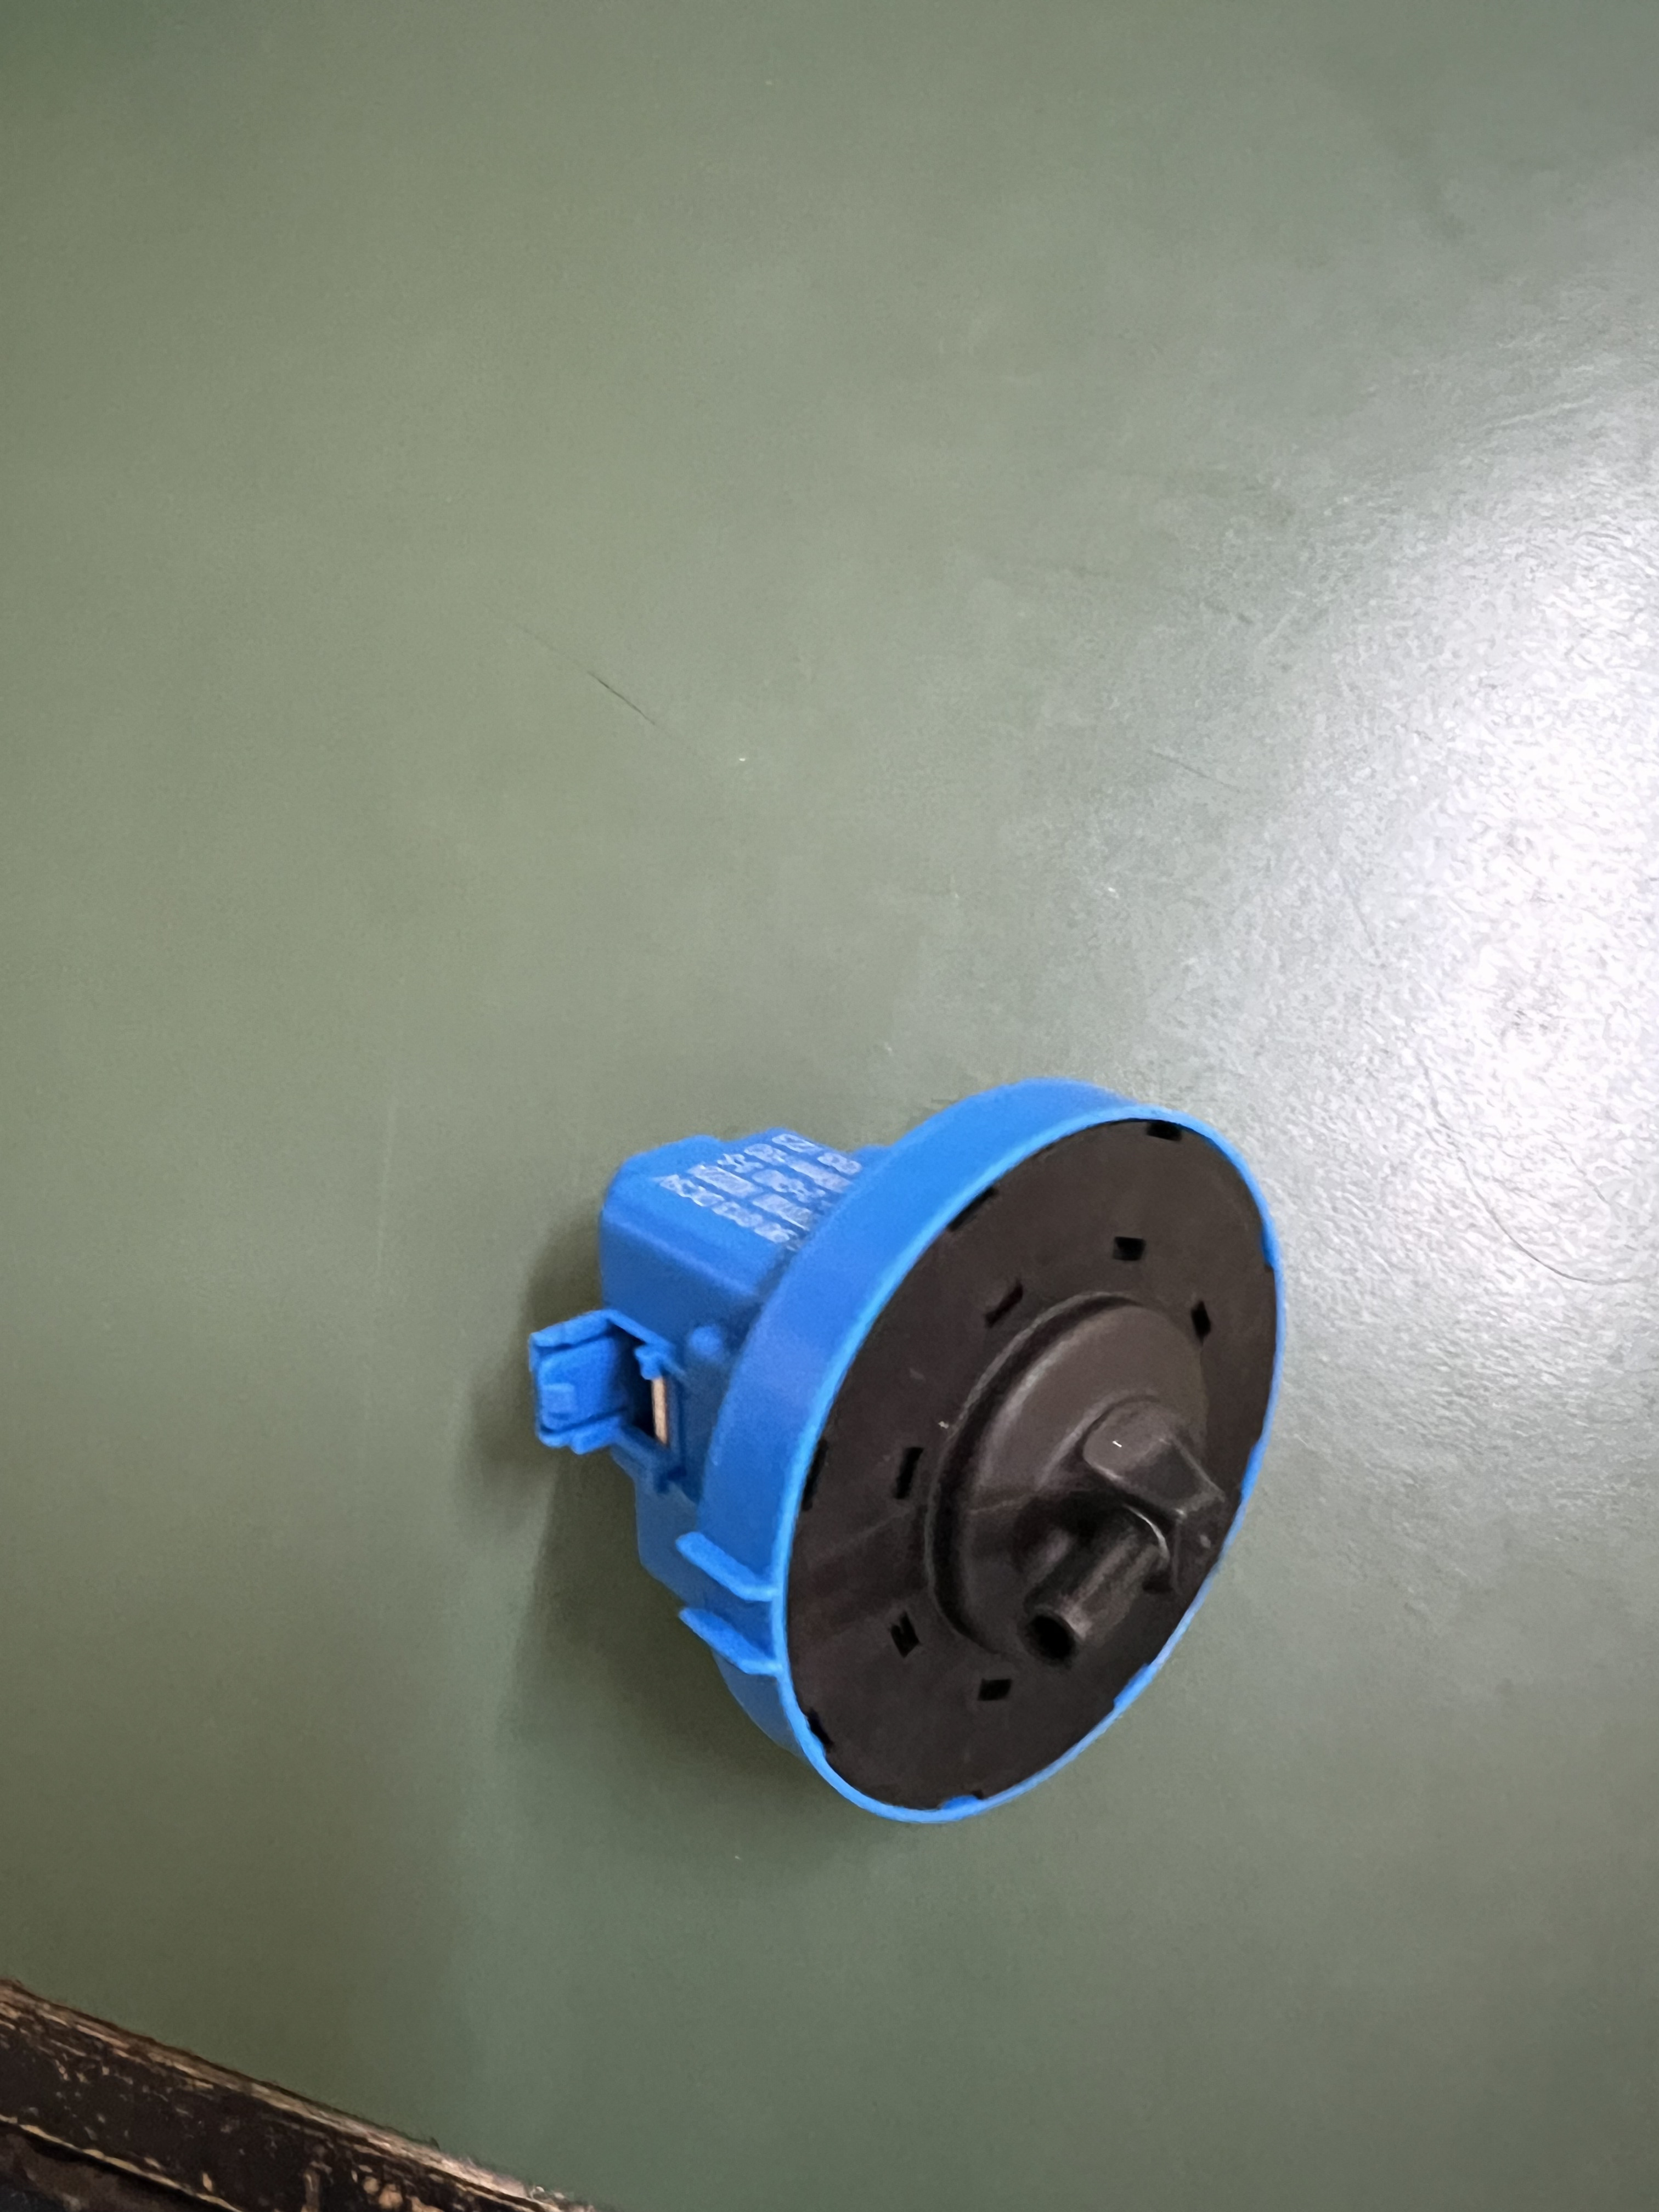voltas_beko_pressure_switch: (519, 1069, 1297, 1855)
